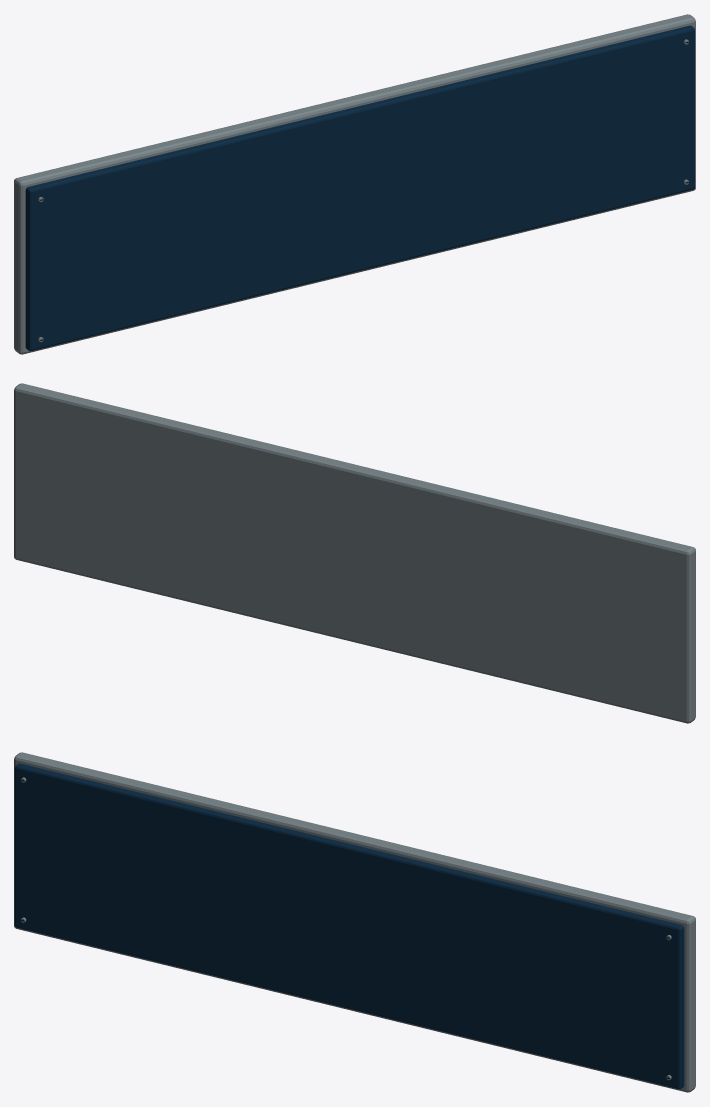
File: OAA_Papan_Ruang_Blank.fbx
3 views of the same model, one above another, from view 1: azimuth 30°, elevation 25°; view 2: azimuth 150°, elevation 25°; view 3: azimuth 330°, elevation 25° (orthographic).
Visible parts, largest first — view 1: Body; view 2: Body; view 3: Body.
Part boxes in pixels (box(x1,y1,x2,y2)): Body: box(14, 14, 695, 354); Body: box(14, 383, 695, 723); Body: box(14, 752, 695, 1092).
Bounding box in the file's own units: 0.9 × 0.22 × 0.0312.
